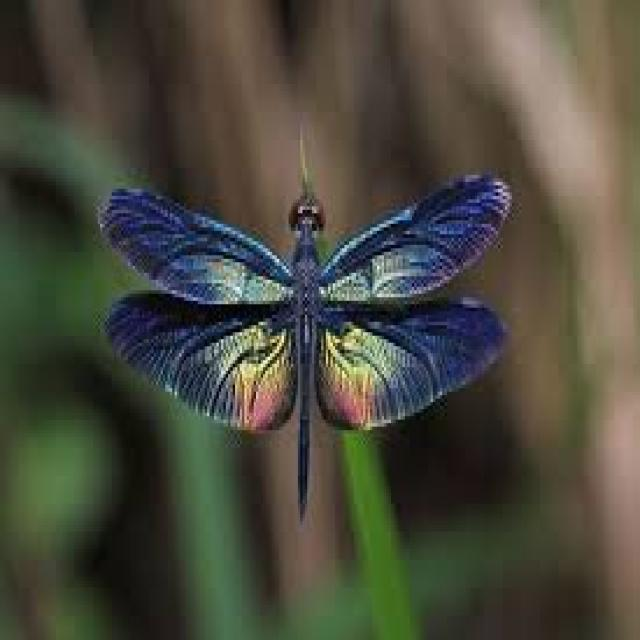dragonfly: (98, 137, 510, 518)
